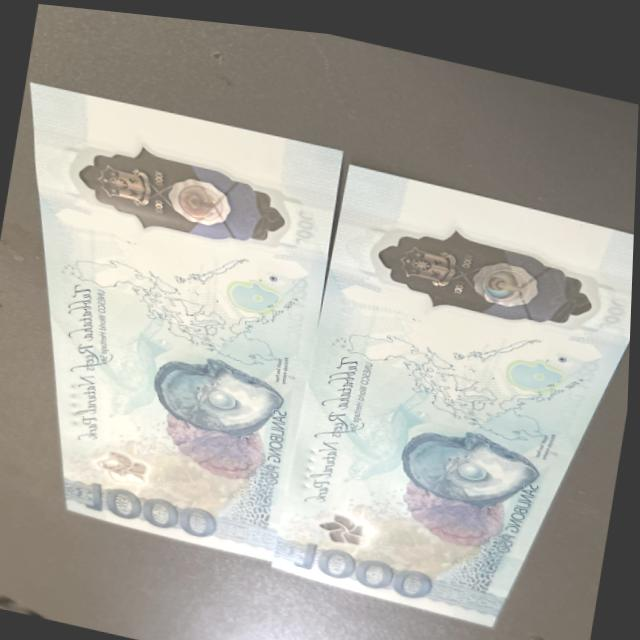clear_window: (360, 193, 630, 343), (63, 124, 311, 257)
sampaguita: (318, 499, 379, 547), (98, 432, 155, 481)
value: (286, 531, 466, 597), (84, 478, 234, 543)
